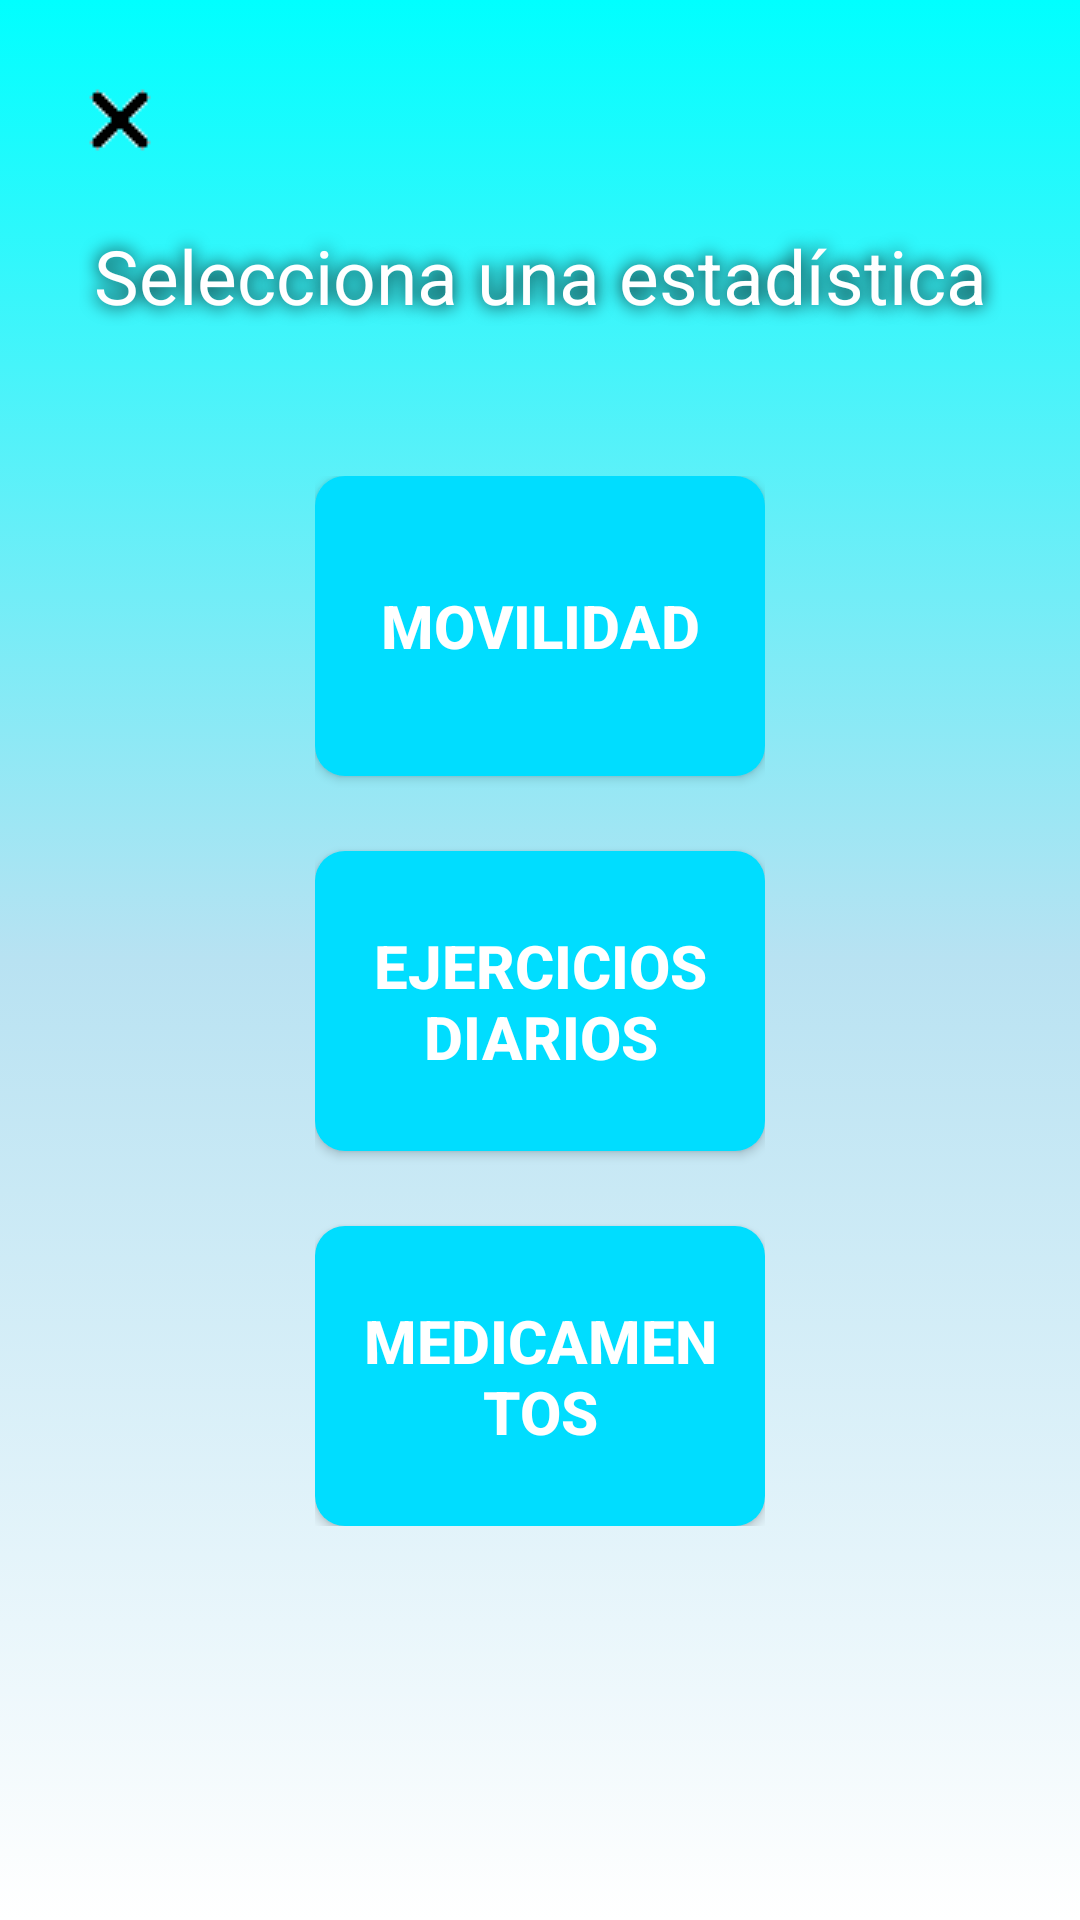

Named icons in this screenshot (1080px×1920px) and their bounding boxes, (x1, y1, x2, y2):
Return Button: (89, 89, 151, 151)
